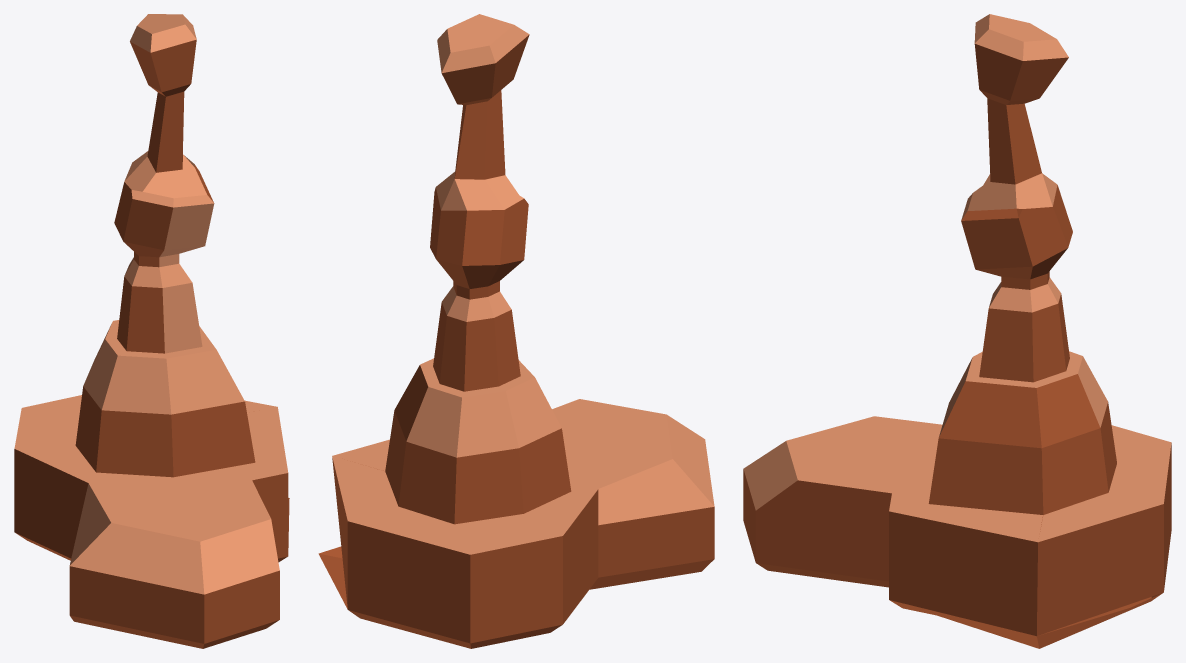
File: Fels_Hoch.fbx
3 views of the same model, side by side, from view 1: azimuth 30°, elevation 25°; view 2: azimuth 150°, elevation 25°; view 3: azimuth 270°, elevation 25° (orthographic). The views are drawn at different scales.
Parts seen in each view (by area): view 1: Plane.016; view 2: Plane.016; view 3: Plane.016.
Boxes of the visible parts, left/top/right/bottom form: Plane.016: left=14, top=14, right=289, bottom=648; Plane.016: left=318, top=14, right=714, bottom=648; Plane.016: left=743, top=14, right=1171, bottom=648.
Bounding box in the file's own units: 732 × 863 × 1232.
